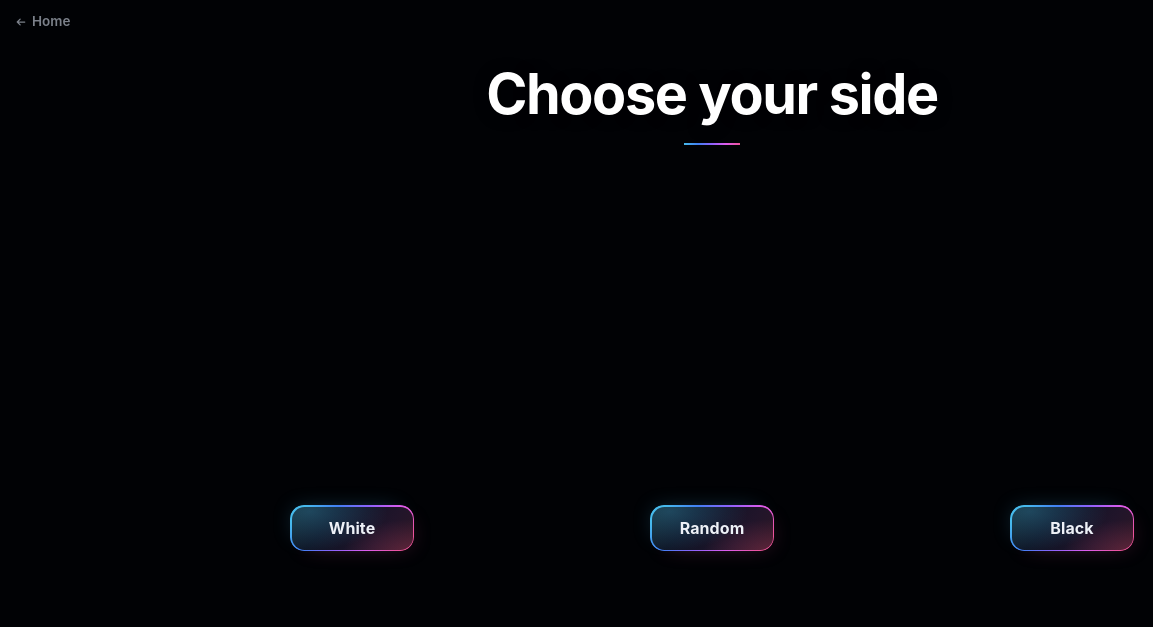
it: against the computer › asks for the side first, then the computer’s level under its open seat
Expected: the heading "Choose your side" is shown, [486,60,938,127]
Expected: the element "Difficulty" is not shown
Click the button "Black". click: click(1072, 528)
box: [1010,505,1134,551]
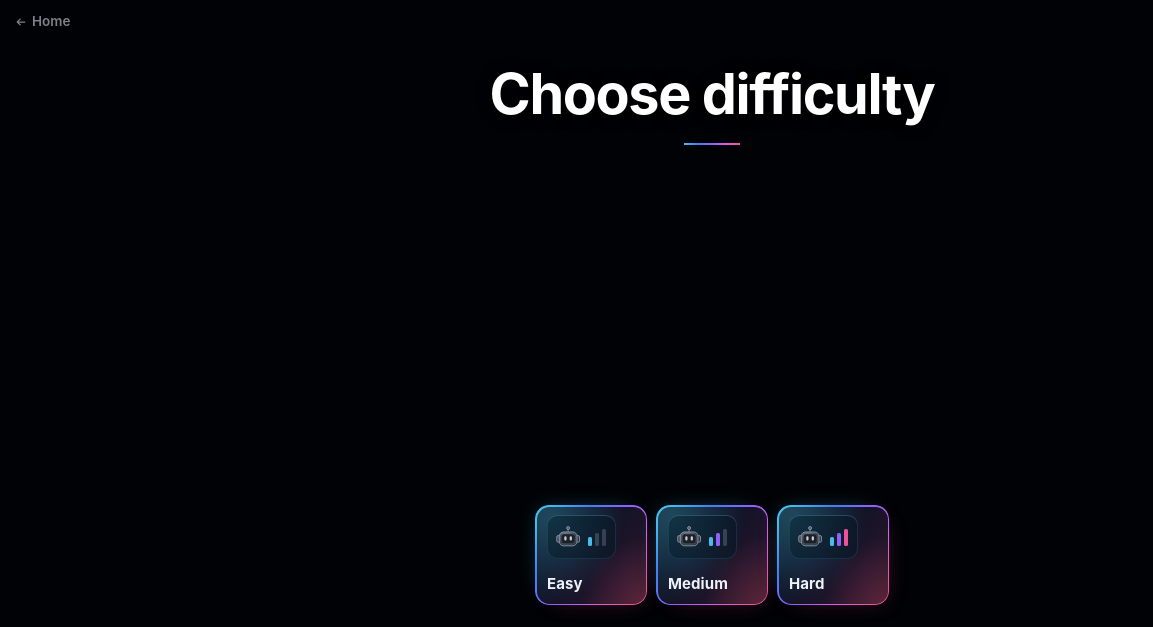
Now the heading "Choose difficulty" is shown, box [490,60,934,127]
Now the heading "you" is gone
Now the element named "Difficulty" is shown, box [535,505,889,605]
